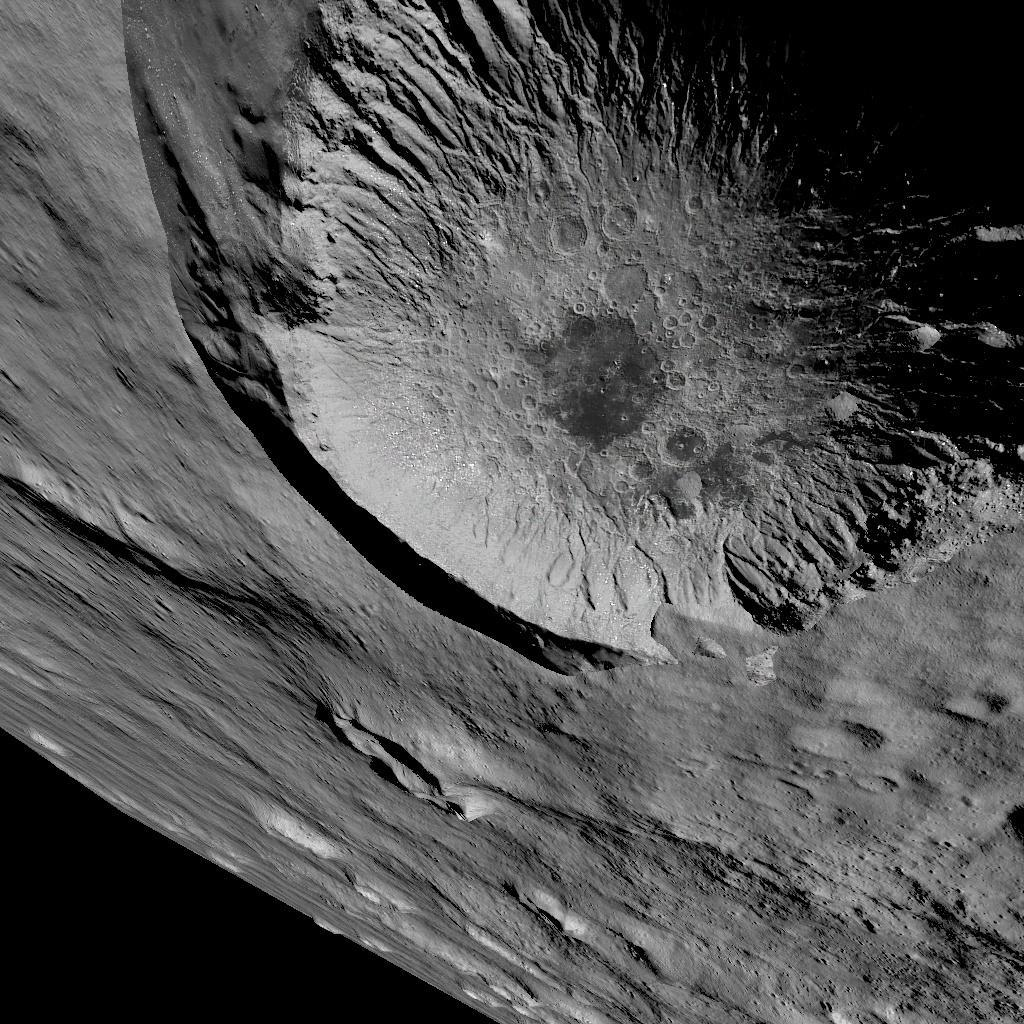Crater: (105, 0, 1024, 681), (299, 694, 473, 824)
Plan surface: (506, 698, 961, 972)
